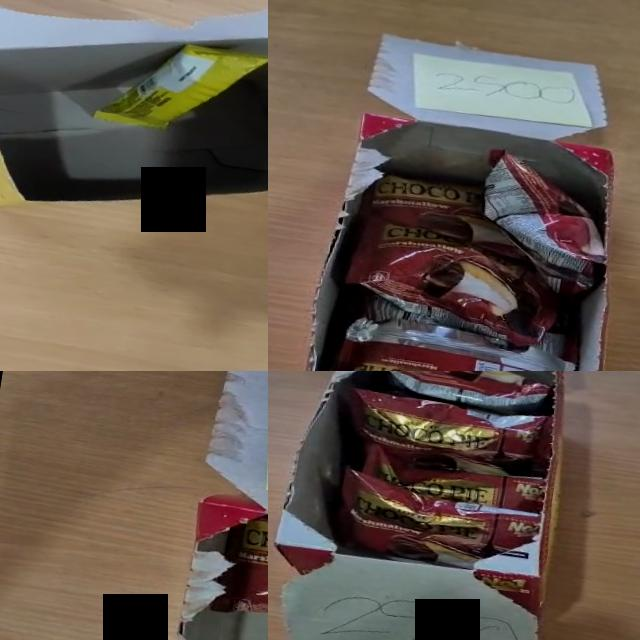Ahh: (93, 28, 268, 147)
Chocopie: (341, 216, 568, 352), (330, 467, 546, 580), (468, 147, 622, 299), (336, 384, 554, 487), (362, 290, 584, 364), (330, 309, 580, 371), (356, 442, 548, 516), (364, 172, 528, 256), (375, 371, 554, 417)
